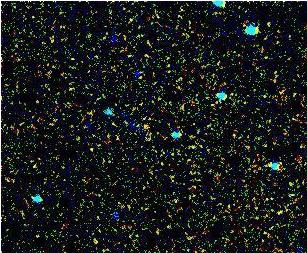star: (133, 112, 163, 142)
